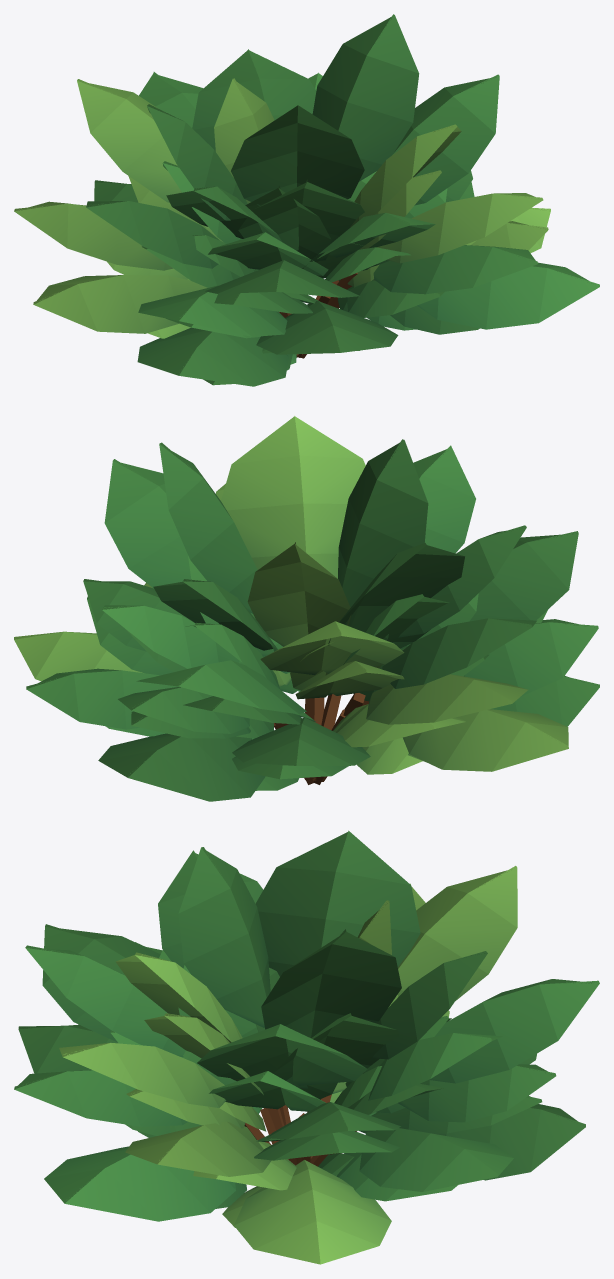
The model's file is bushes.glb.
3 views of the same model, one above another, from view 1: azimuth 30°, elevation 25°; view 2: azimuth 150°, elevation 25°; view 3: azimuth 270°, elevation 25° (orthographic). The views are drawn at different scales.
Parts seen in each view (by area): view 1: bushes_1, bushes_0, bushes_2; view 2: bushes_1, bushes_0, bushes_2; view 3: bushes_1, bushes_0, bushes_2.
Boxes of the visible parts, left/top/right/bottom form: bushes_1: left=14, top=14, right=599, bottom=386; bushes_0: left=107, top=78, right=479, bottom=385; bushes_2: left=187, top=171, right=416, bottom=364; bushes_1: left=14, top=416, right=599, bottom=801; bushes_0: left=87, top=542, right=547, bottom=788; bushes_2: left=236, top=634, right=422, bottom=790; bushes_1: left=14, top=830, right=599, bottom=1264; bushes_0: left=110, top=900, right=542, bottom=1227; bushes_2: left=138, top=967, right=405, bottom=1176.
Size of the model in its own units: 2.09 by 1.16 by 1.82.
